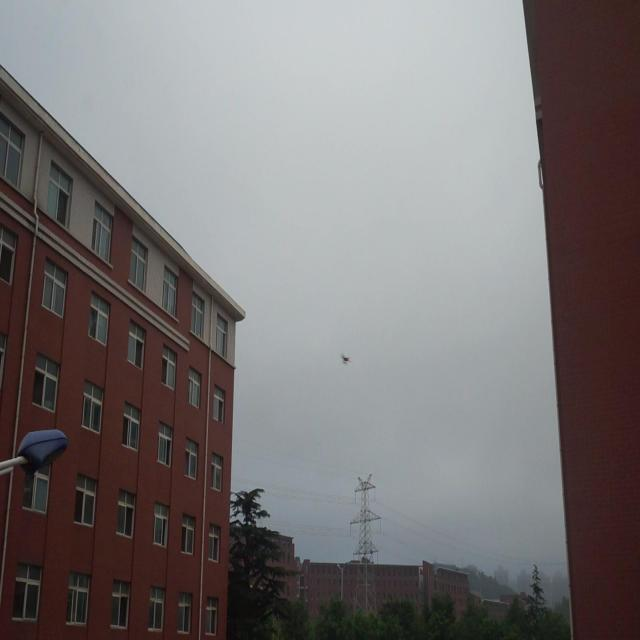UAV: (342, 355, 352, 364)
